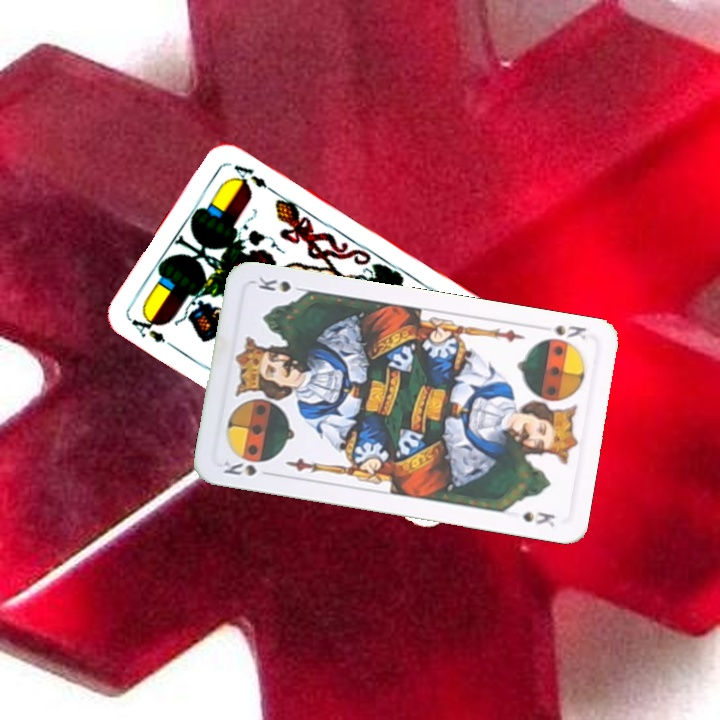EA: (127, 309, 180, 353)
SK: (219, 457, 259, 479), (551, 320, 589, 342)
